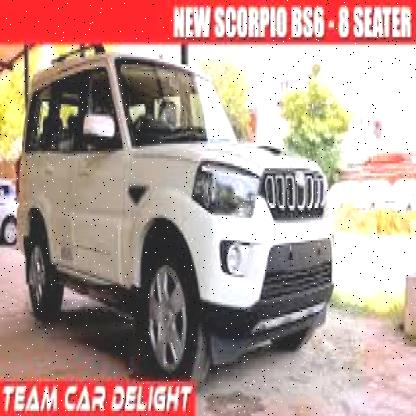car: (8, 46, 338, 380)
